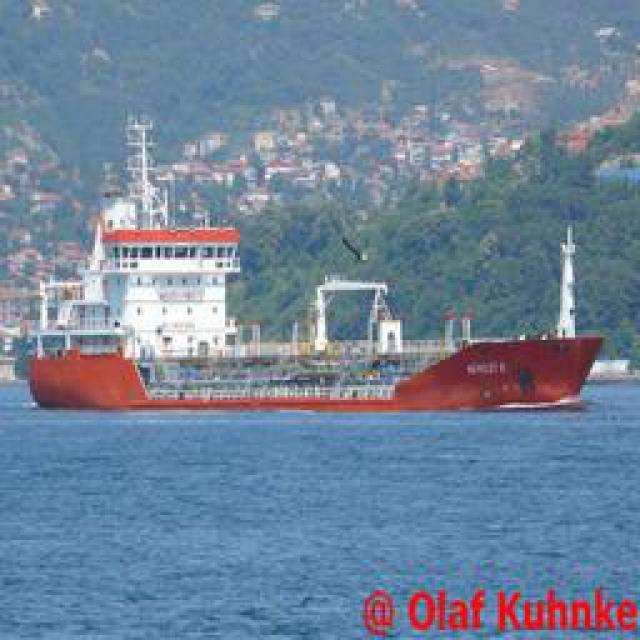Ship: (17, 310, 597, 418)
